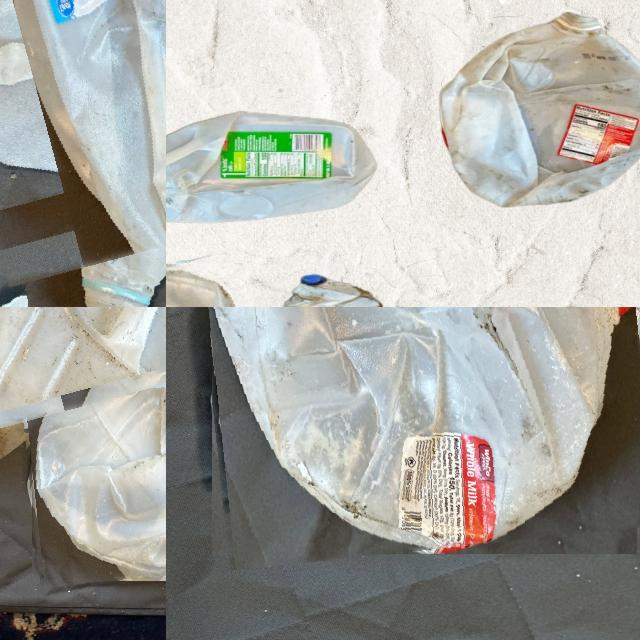milk-jug: (195, 307, 640, 559), (0, 0, 166, 264), (431, 11, 640, 213), (22, 346, 166, 581), (166, 111, 371, 221), (0, 192, 166, 307), (0, 307, 166, 417), (267, 266, 385, 307), (166, 254, 250, 307)
